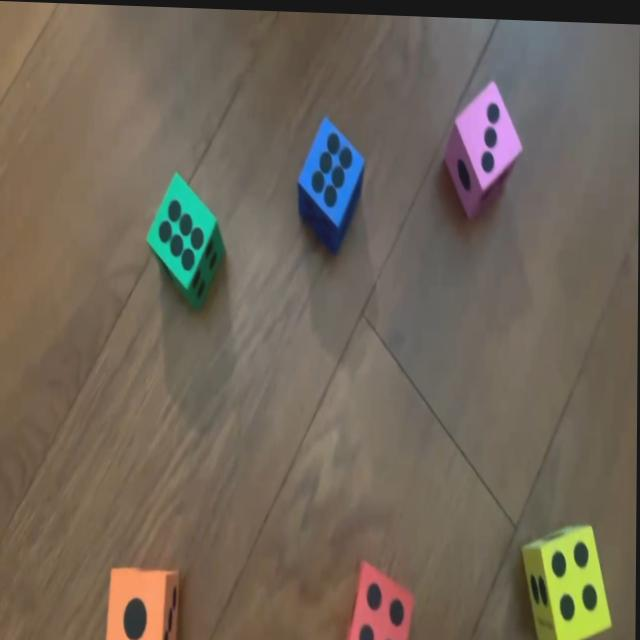blue_block: (297, 110, 363, 248)
red_block: (346, 556, 414, 640)
